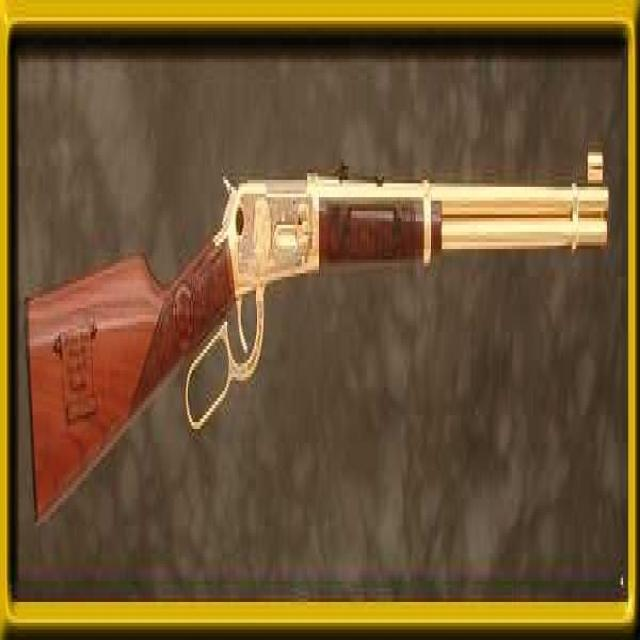weapon: (14, 76, 618, 550)
